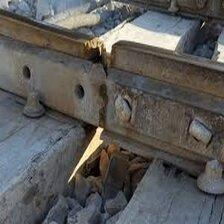railway-gap: (71, 25, 135, 82)
